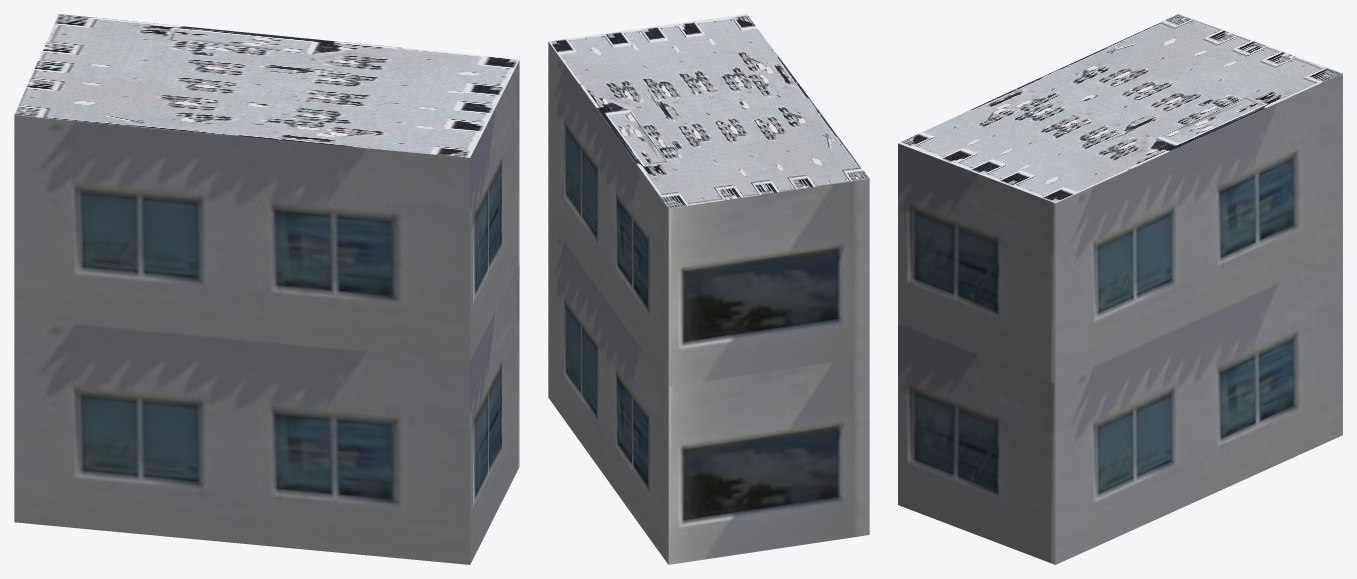
The model's file is ResTex__2523.fbx.
3 views of the same model, side by side, from view 1: azimuth 30°, elevation 25°; view 2: azimuth 150°, elevation 25°; view 3: azimuth 270°, elevation 25° (orthographic). The views are drawn at different scales.
Parts seen in each view (by area): view 1: CityEngineMaterial_10_m, CityEngineMaterial_2_m; view 2: CityEngineMaterial_10_m, CityEngineMaterial_2_m; view 3: CityEngineMaterial_10_m, CityEngineMaterial_2_m.
Part boxes in pixels (left/top/right/bottom): CityEngineMaterial_10_m: left=14, top=60, right=519, bottom=564; CityEngineMaterial_2_m: left=14, top=14, right=519, bottom=157; CityEngineMaterial_10_m: left=548, top=42, right=869, bottom=564; CityEngineMaterial_2_m: left=548, top=14, right=869, bottom=208; CityEngineMaterial_10_m: left=898, top=73, right=1342, bottom=564; CityEngineMaterial_2_m: left=898, top=14, right=1342, bottom=203.
Bounding box in the file's own units: 6.73 × 6 × 6.69.
Materials: 2 (2 with a texture image).
